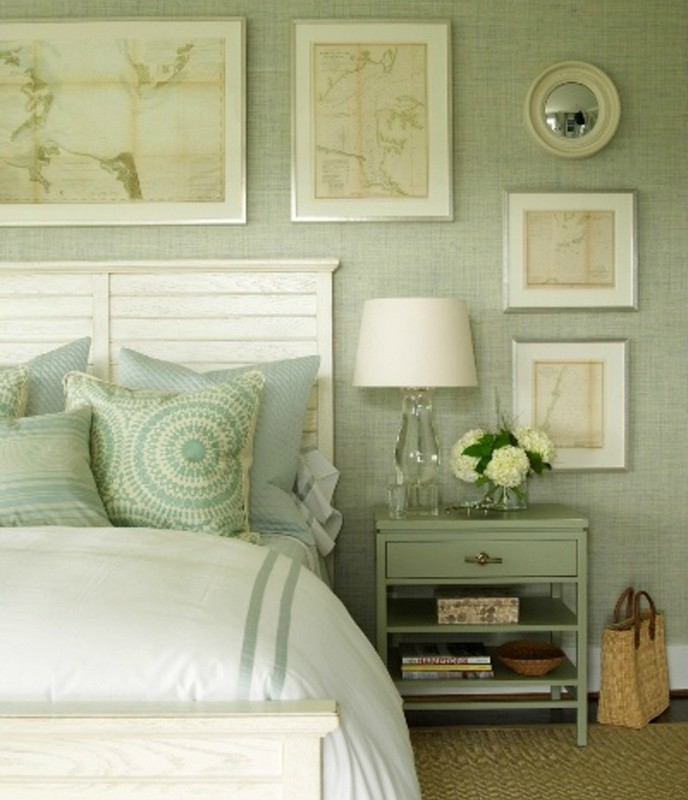bed: (7, 260, 385, 795)
lamp: (357, 292, 474, 521)
stool: (375, 497, 606, 761)
